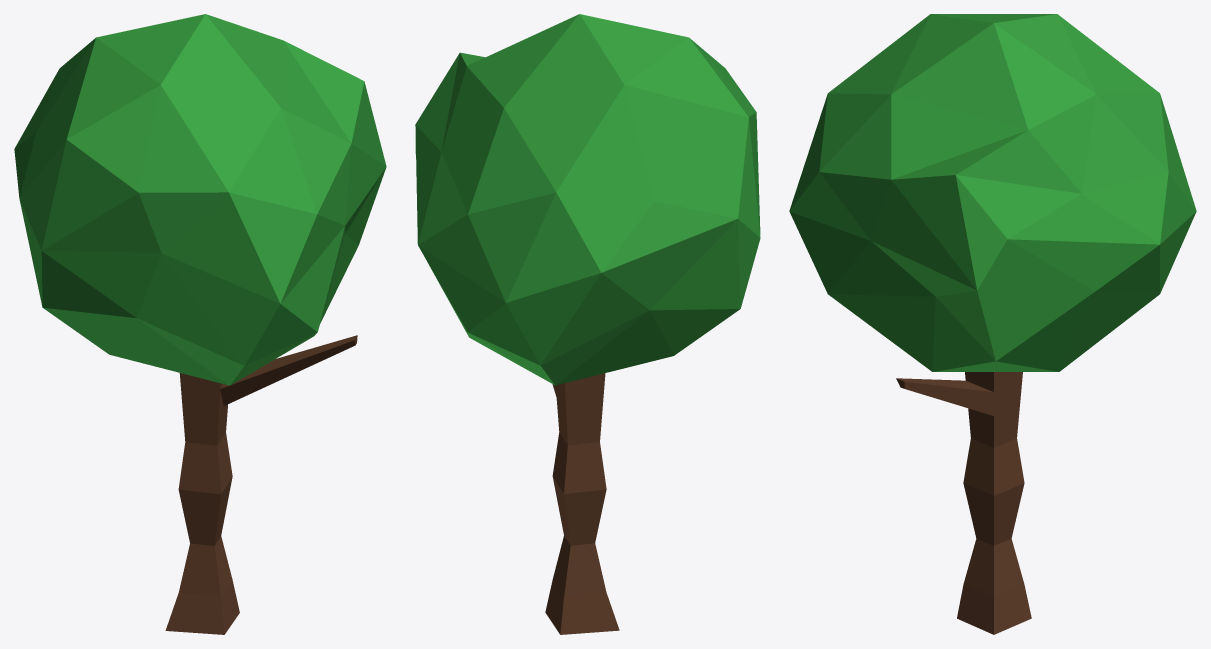
The model's file is Tree_39_Green.fbx.
3 views of the same model, side by side, from view 1: azimuth 30°, elevation 25°; view 2: azimuth 150°, elevation 25°; view 3: azimuth 270°, elevation 25° (orthographic).
Visible parts, largest first — view 1: Tree_39_Green_Part_1, Tree_39_Green_Part_2, Tree_39_Green_Part_3; view 2: Tree_39_Green_Part_1, Tree_39_Green_Part_2; view 3: Tree_39_Green_Part_1, Tree_39_Green_Part_2, Tree_39_Green_Part_3.
Boxes of the visible parts, x1,y1,x2,y2 form: Tree_39_Green_Part_1: (14,14,386,385); Tree_39_Green_Part_2: (165,373,239,634); Tree_39_Green_Part_3: (220,335,357,405); Tree_39_Green_Part_1: (415,14,760,385); Tree_39_Green_Part_2: (545,373,619,634); Tree_39_Green_Part_1: (789,14,1196,371); Tree_39_Green_Part_2: (957,372,1031,634); Tree_39_Green_Part_3: (896,378,993,415).
Size of the model in its own units: 474 by 798 by 495.
